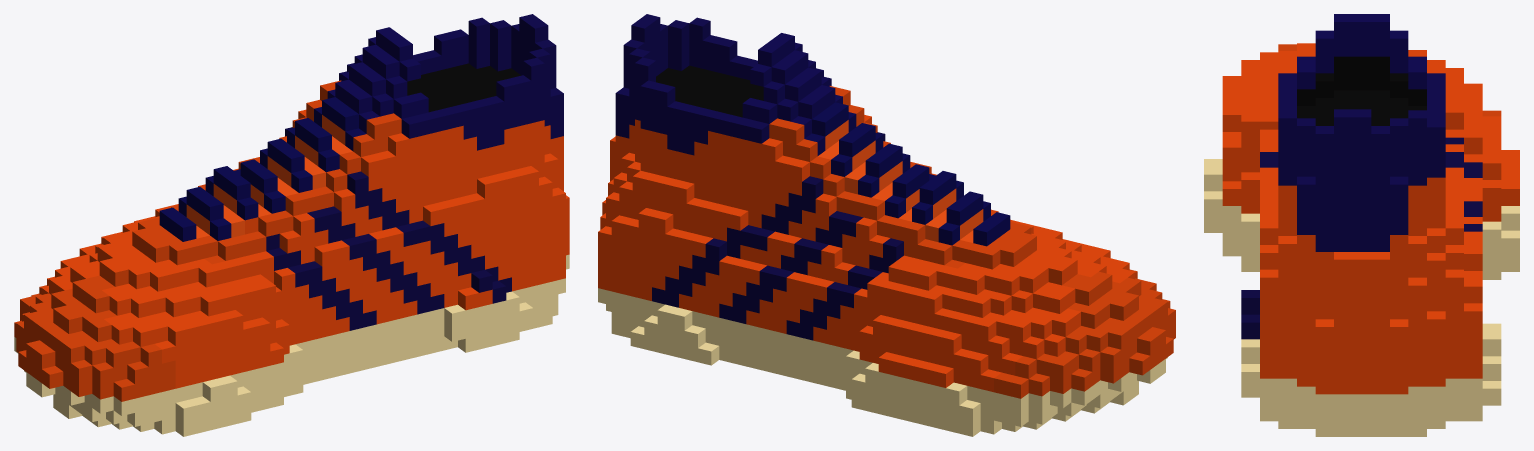
The model's file is Brilliant Orange.fbx.
3 renders of one model, left to right at view 1: azimuth 30°, elevation 25°; view 2: azimuth 150°, elevation 25°; view 3: azimuth 270°, elevation 25°, orthographic. The views are drawn at different scales.
Visible parts, largest first — view 1: Untitled; view 2: Untitled; view 3: Untitled.
Part boxes in pixels (x1=…): Untitled: x1=14, y1=14, x2=569, y2=436; Untitled: x1=598, y1=14, x2=1175, y2=436; Untitled: x1=1204, y1=14, x2=1519, y2=436.
Bounding box in the file's own units: 390 × 200 × 170.
